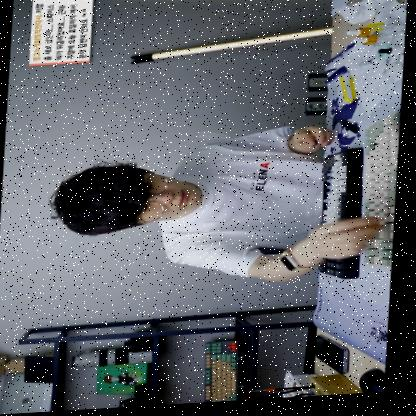streamer: (46, 125, 388, 297)
